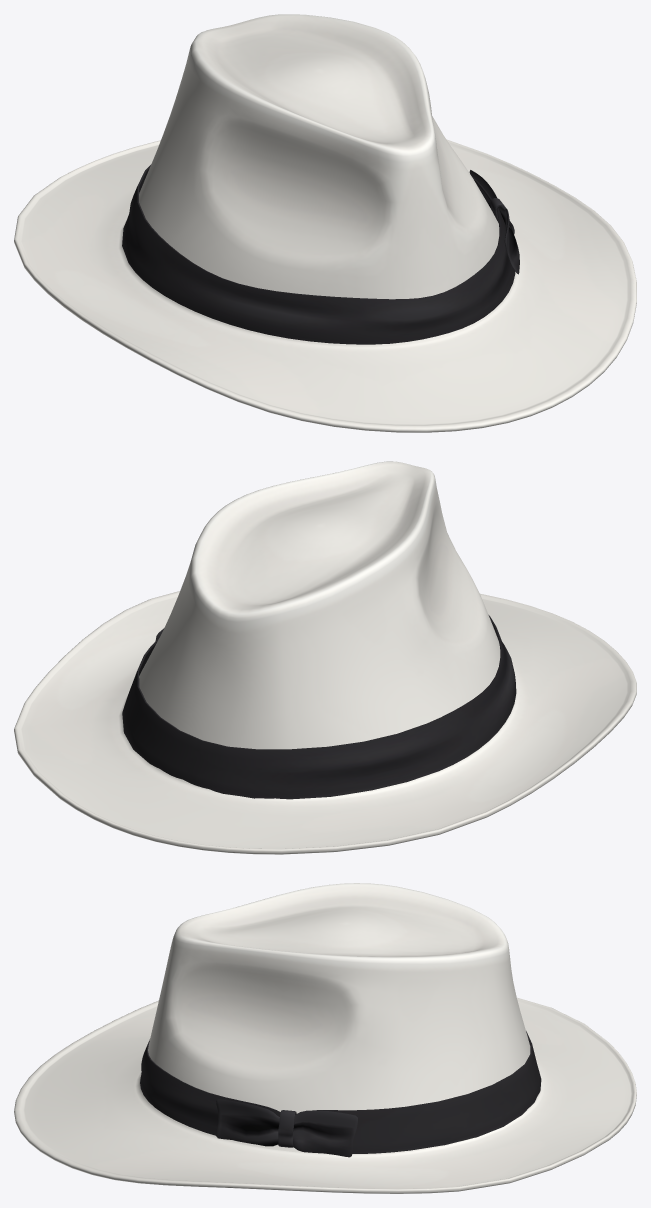
Rendered from 3D_0090_fatday_hat.glb.
3 views of the same model, one above another, from view 1: azimuth 30°, elevation 25°; view 2: azimuth 150°, elevation 25°; view 3: azimuth 270°, elevation 25° (orthographic). The views are drawn at different scales.
Visible parts, largest first — view 1: hat_0, hat_1; view 2: hat_0, hat_1; view 3: hat_0, hat_1.
Boxes of the visible parts, bbox=[...] form: hat_0: bbox=[14, 14, 636, 432]; hat_1: bbox=[122, 165, 519, 344]; hat_0: bbox=[14, 461, 636, 854]; hat_1: bbox=[122, 615, 516, 799]; hat_0: bbox=[14, 883, 636, 1193]; hat_1: bbox=[140, 1031, 541, 1157].
Size of the model in its own units: 0.2182 by 0.0929 by 0.2705.
2 materials, 2 textured.
